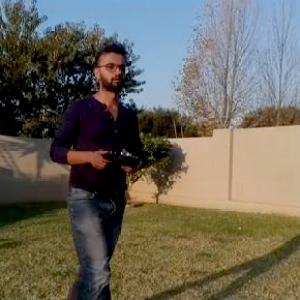follow: (41, 21, 151, 299)
